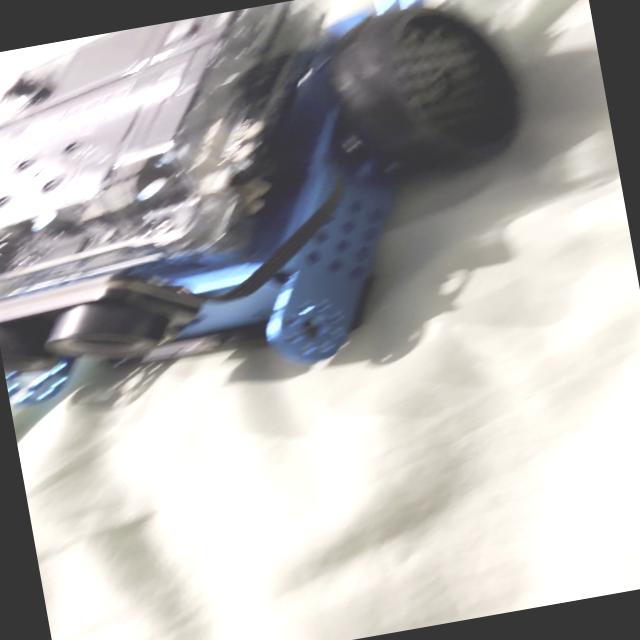mbot-detection: (0, 0, 573, 429)
